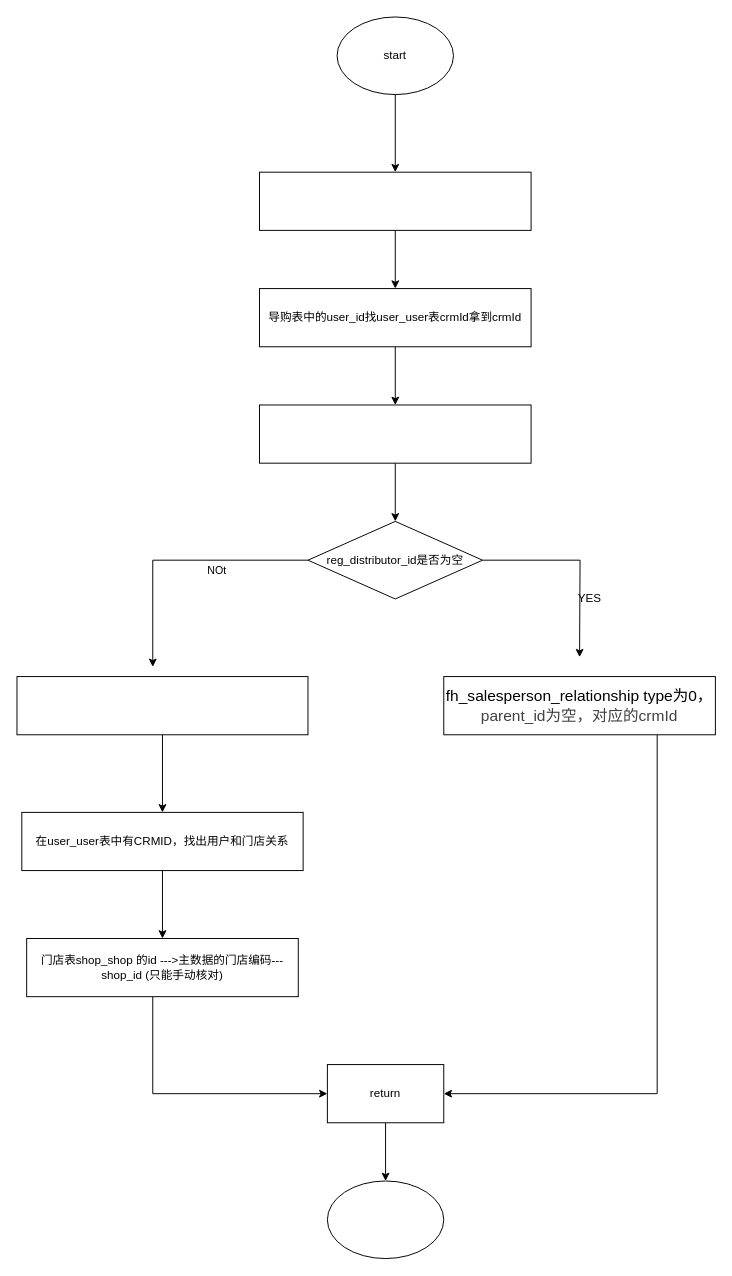
The diagram is 732 pixels wide and 1276 high, and some of its shapes have lost their labels. The shapes that lost their labels are listed below. From the top down, each one's box as (x1, y1, x2, y2) in pixels, then its label:
(259, 171, 531, 230): shop_guide导购表
(259, 404, 531, 463): 通过user_userinfo表查询是否有注册所属分销员id
(16, 676, 308, 735): fh_salesperson_relationship type为0，shop_id所属店铺？（产品手工核对，找出关系update），对应的crmId
(326, 1180, 444, 1259): end
